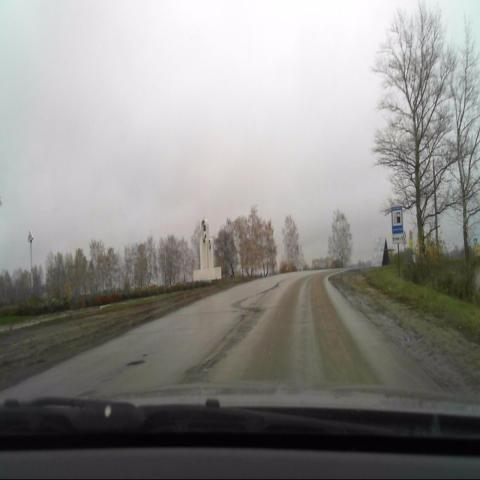7_3: (391, 206, 402, 233)
